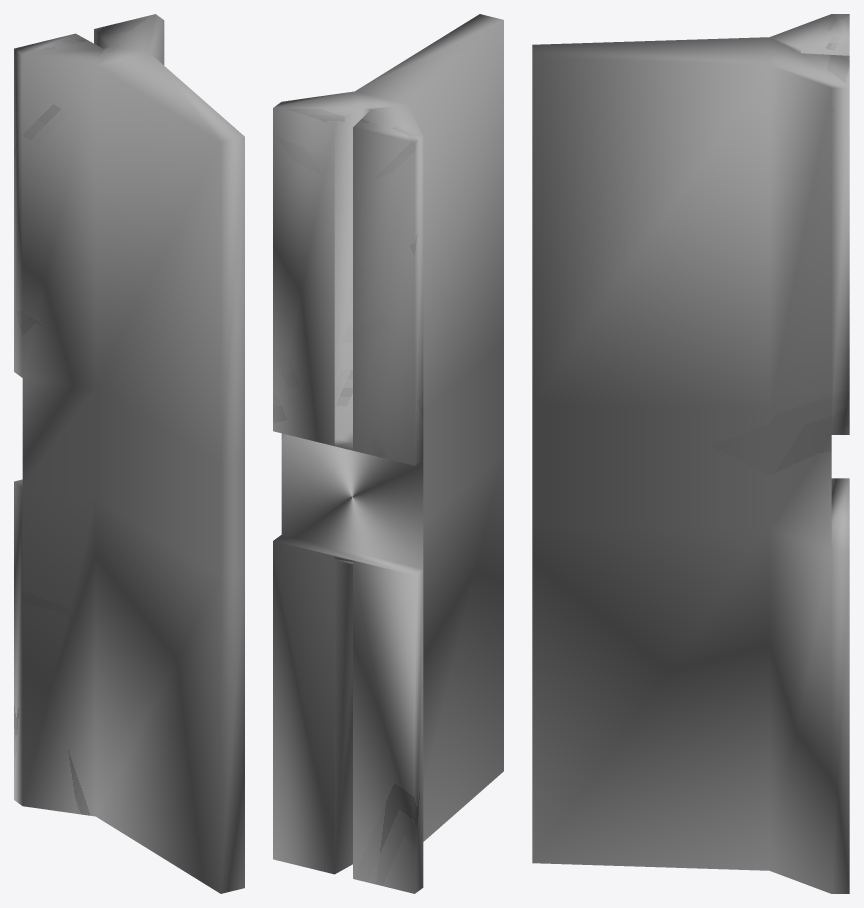
The model's file is barrier_vertical.fbx.
The picture shows the model from 3 angles, left to right: view 1: azimuth 30°, elevation 25°; view 2: azimuth 150°, elevation 25°; view 3: azimuth 270°, elevation 25°; orthographic projection. The views are drawn at different scales.
Visible parts, largest first — view 1: Box01_None; view 2: Box01_None; view 3: Box01_None.
Boxes of the visible parts, x1,y1,x2,y2 form: Box01_None: (14,14,244,893); Box01_None: (273,14,503,893); Box01_None: (532,14,849,893).
Size of the model in its own units: 12.44 by 63.08 by 22.51.
1 material, 1 textured.
